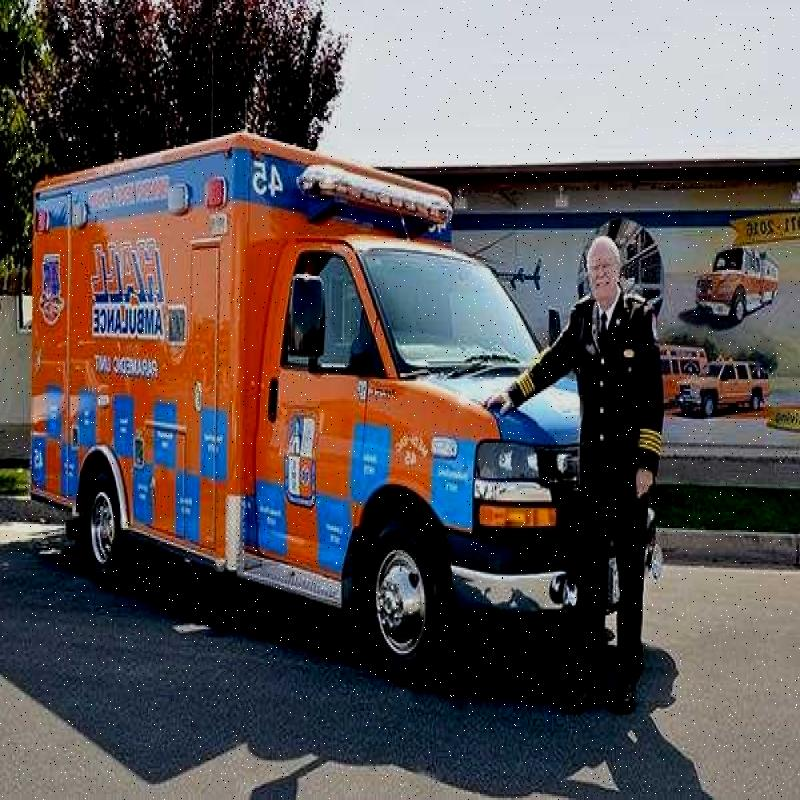AmbulanceSiren: (292, 157, 468, 222)
